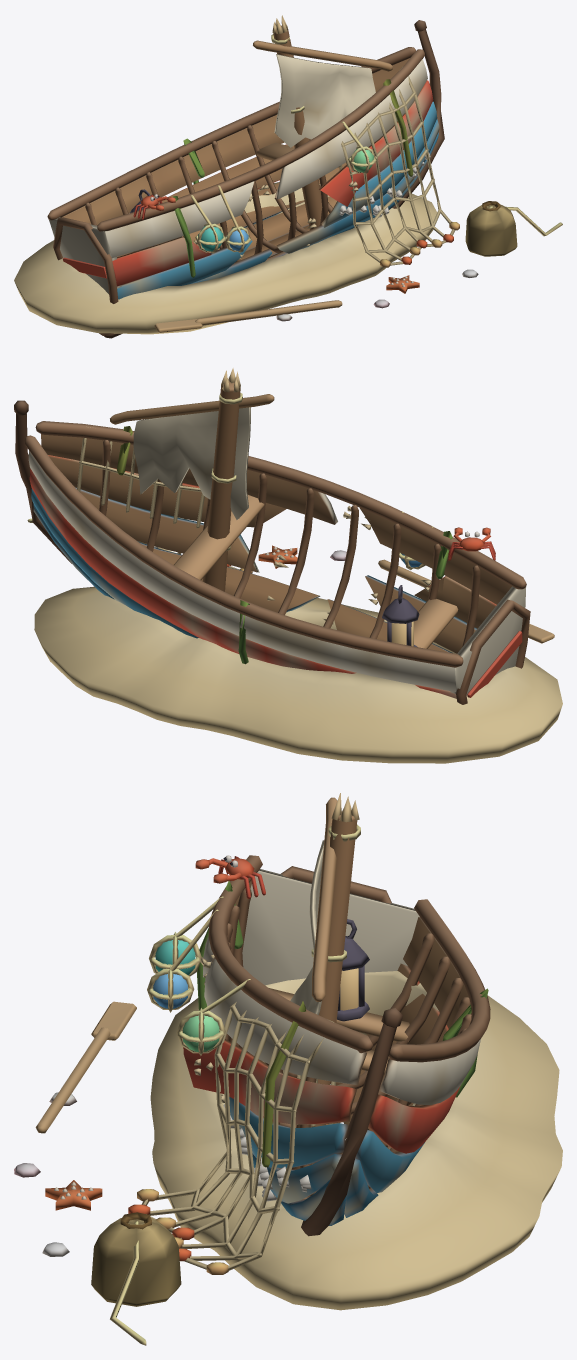
File: rg-tidepool-wreck.glb
The picture shows the model from 3 angles, top to bottom: view 1: azimuth 30°, elevation 25°; view 2: azimuth 150°, elevation 25°; view 3: azimuth 270°, elevation 25°; orthographic projection. The views are drawn at different scales.
Parts seen in each view (by area): view 1: rg-tidepool-wreck, rg-tidepool-wreck_sand, rg-tidepool-wreck_cloth, rg-tidepool-wreck_glow; view 2: rg-tidepool-wreck, rg-tidepool-wreck_sand, rg-tidepool-wreck_cloth, rg-tidepool-wreck_glow; view 3: rg-tidepool-wreck, rg-tidepool-wreck_sand, rg-tidepool-wreck_glow, rg-tidepool-wreck_cloth.
Part boxes in pixels (x1=…): rg-tidepool-wreck: x1=47, y1=15, x2=562, y2=338; rg-tidepool-wreck_sand: x1=14, y1=182, x2=437, y2=334; rg-tidepool-wreck_cloth: x1=274, y1=54, x2=375, y2=147; rg-tidepool-wreck_glow: x1=198, y1=148, x2=373, y2=251; rg-tidepool-wreck: x1=14, y1=368, x2=554, y2=704; rg-tidepool-wreck_sand: x1=34, y1=586, x2=562, y2=763; rg-tidepool-wreck_cloth: x1=133, y1=407, x2=250, y2=519; rg-tidepool-wreck_glow: x1=387, y1=553, x2=421, y2=646; rg-tidepool-wreck: x1=14, y1=793, x2=490, y2=1345; rg-tidepool-wreck_sand: x1=150, y1=971, x2=562, y2=1310; rg-tidepool-wreck_glow: x1=153, y1=940, x2=358, y2=1051; rg-tidepool-wreck_cloth: x1=290, y1=840, x2=324, y2=1014.
Size of the model in its own units: 4.92 by 2.6 by 2.92.
